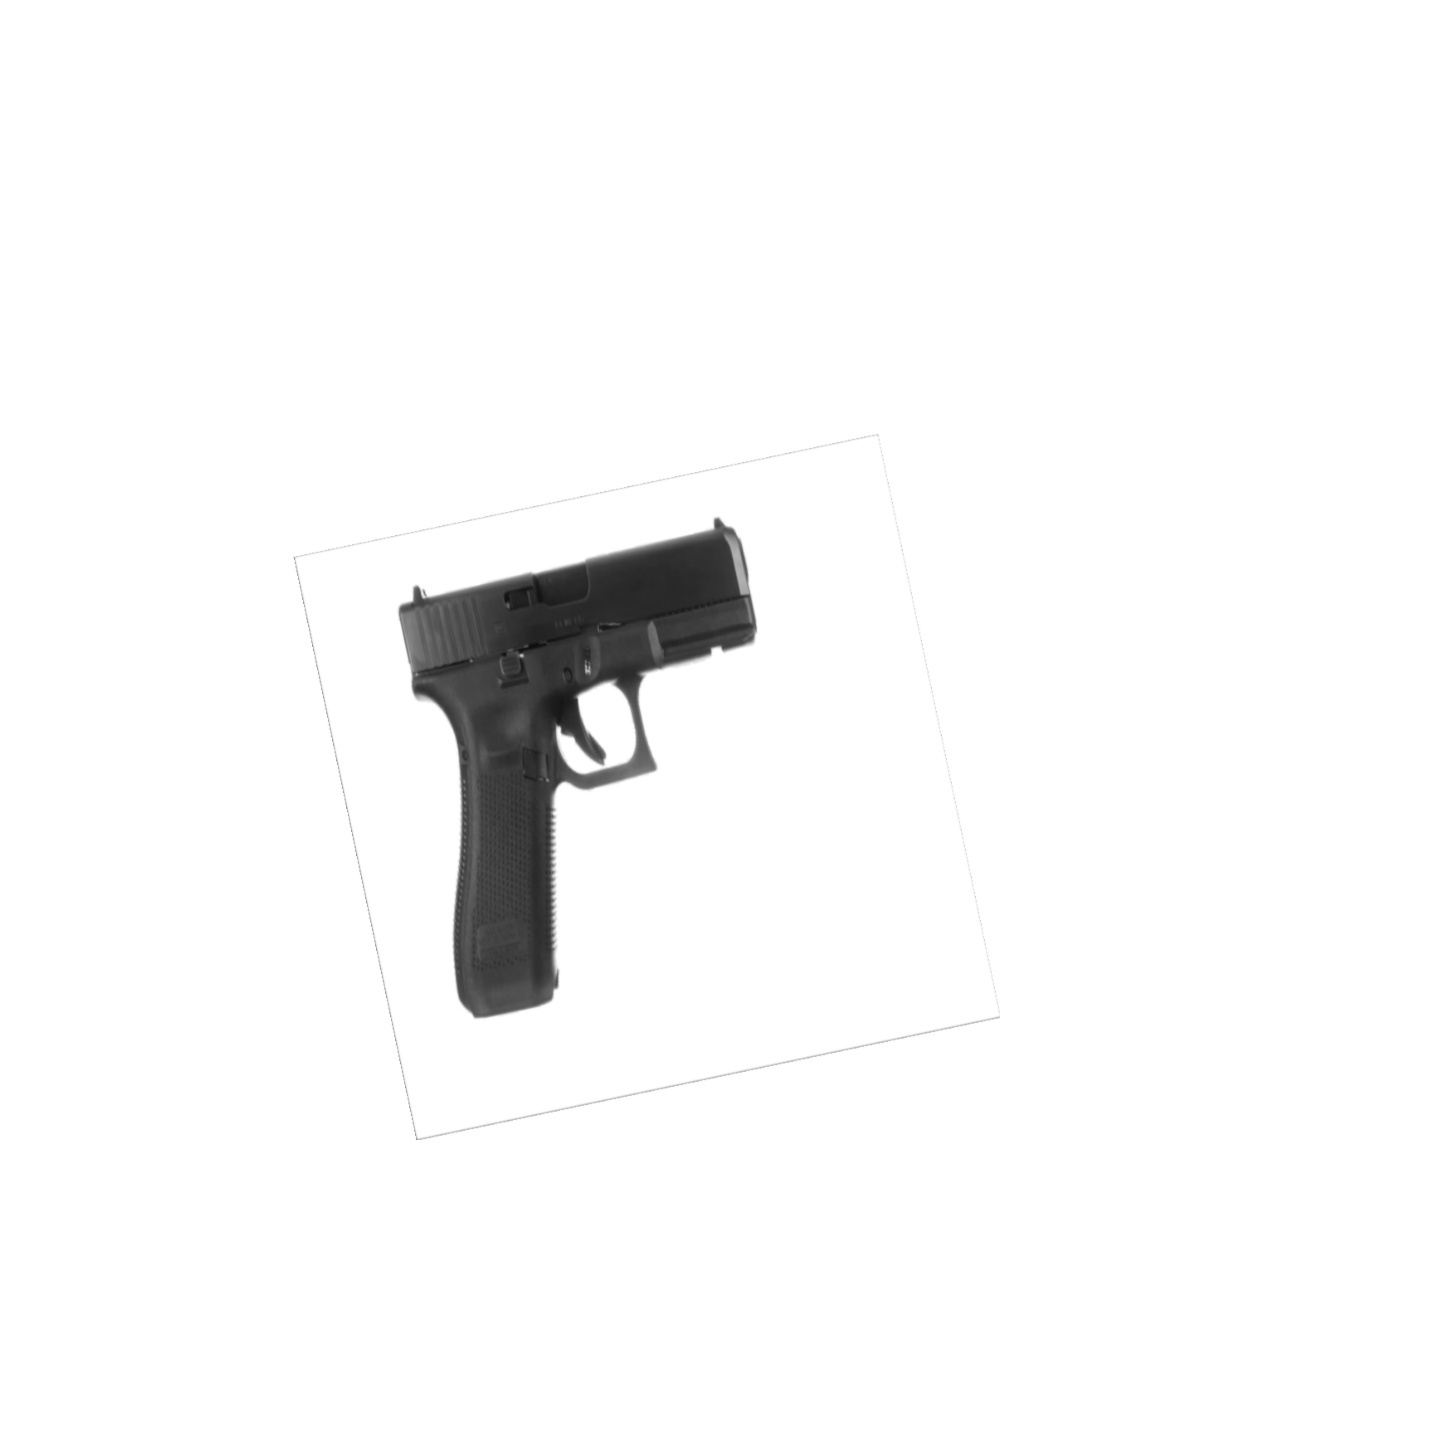gun: (402, 519, 759, 1019)
